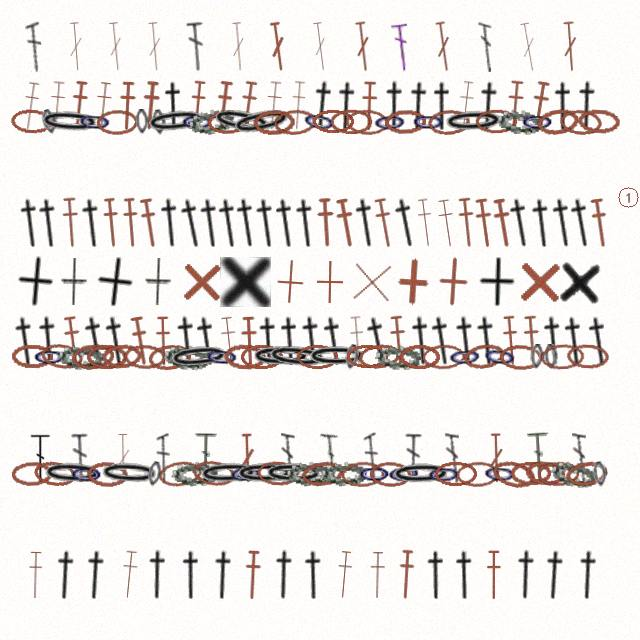chain: (229, 104, 294, 140), (209, 104, 274, 139), (144, 106, 208, 137), (167, 342, 231, 372), (265, 342, 329, 372), (38, 108, 101, 136), (442, 108, 505, 135), (41, 460, 104, 487), (98, 460, 161, 487), (197, 460, 260, 487), (186, 105, 236, 138), (390, 461, 452, 487), (490, 457, 537, 491), (549, 458, 598, 490), (250, 344, 312, 369), (306, 344, 368, 369), (234, 461, 296, 486), (263, 461, 325, 486), (39, 341, 85, 372), (191, 458, 237, 489), (535, 106, 580, 137), (462, 341, 507, 372), (32, 459, 78, 489), (157, 459, 203, 489), (147, 342, 192, 372), (564, 459, 609, 489), (300, 459, 344, 489), (163, 343, 210, 371), (70, 342, 115, 371), (357, 342, 402, 371), (496, 108, 543, 135), (171, 460, 218, 487), (285, 460, 332, 487), (320, 460, 367, 487), (524, 459, 567, 488), (427, 108, 471, 136), (57, 344, 104, 370), (540, 343, 585, 370), (300, 106, 339, 137), (273, 108, 316, 136), (559, 108, 602, 136), (375, 344, 421, 370), (10, 108, 54, 135), (577, 108, 620, 135), (223, 343, 266, 370), (566, 343, 609, 370), (256, 460, 299, 487), (345, 109, 389, 135), (123, 344, 167, 370), (341, 461, 385, 487), (456, 461, 500, 487), (101, 343, 143, 370), (207, 109, 250, 135), (252, 109, 295, 135), (422, 344, 465, 370), (499, 344, 542, 370), (86, 461, 129, 487), (369, 461, 412, 487), (537, 461, 580, 487), (481, 342, 519, 371), (96, 109, 138, 135), (384, 109, 426, 135), (11, 461, 53, 487), (312, 109, 355, 134), (330, 109, 373, 134), (475, 109, 518, 134), (240, 344, 283, 369), (346, 344, 389, 369), (434, 461, 477, 486), (11, 344, 53, 369), (86, 344, 128, 369), (296, 344, 338, 369), (399, 344, 441, 369), (510, 461, 552, 486), (77, 108, 113, 135), (204, 343, 240, 370), (447, 343, 483, 370), (228, 460, 264, 487), (386, 460, 422, 487), (482, 460, 518, 487), (372, 109, 408, 135), (426, 461, 462, 487), (69, 461, 104, 487), (180, 109, 215, 134), (411, 109, 446, 134), (520, 109, 555, 134), (32, 344, 67, 369), (357, 461, 392, 486), (40, 108, 59, 135), (146, 461, 163, 487), (151, 109, 167, 135), (344, 344, 360, 370), (592, 461, 608, 487), (135, 109, 149, 134), (530, 344, 544, 369), (544, 344, 558, 369)
double: (516, 21, 541, 73), (527, 432, 551, 483), (432, 21, 455, 72), (267, 21, 289, 72), (309, 21, 331, 72), (352, 21, 374, 72), (320, 432, 342, 483), (195, 433, 217, 483), (105, 21, 126, 72), (144, 21, 165, 72), (186, 21, 207, 72), (391, 21, 412, 72), (30, 433, 51, 483), (66, 21, 86, 72), (560, 21, 580, 72), (25, 21, 44, 72), (229, 21, 248, 72), (71, 433, 90, 483), (363, 432, 381, 483), (114, 433, 132, 483), (487, 433, 505, 483), (478, 22, 495, 72), (239, 433, 256, 483), (405, 433, 422, 483), (445, 433, 461, 483), (572, 433, 588, 483), (156, 433, 171, 483), (281, 433, 295, 483)
half_double: (174, 196, 210, 250), (360, 314, 396, 368), (388, 196, 424, 249), (305, 79, 340, 132), (503, 196, 538, 249), (564, 196, 599, 249), (78, 314, 113, 367), (230, 196, 264, 249), (349, 196, 383, 249), (546, 196, 580, 249), (99, 314, 133, 367), (425, 314, 459, 367), (212, 197, 246, 249), (269, 197, 303, 249), (190, 315, 224, 367), (317, 315, 351, 367), (582, 315, 616, 367), (330, 80, 363, 132), (402, 80, 435, 132), (472, 80, 505, 132), (14, 197, 47, 249), (194, 197, 227, 249), (250, 197, 283, 249), (9, 315, 42, 367), (558, 315, 591, 367), (49, 549, 82, 601), (79, 549, 112, 601), (538, 549, 571, 601), (33, 197, 65, 249), (76, 197, 108, 249), (290, 197, 322, 249), (526, 197, 558, 249), (207, 549, 239, 601), (572, 549, 604, 601), (571, 80, 603, 131), (171, 315, 203, 366), (296, 315, 328, 366), (450, 315, 482, 366), (471, 315, 503, 366), (268, 549, 300, 600), (510, 549, 542, 600), (379, 80, 410, 131), (155, 197, 186, 248), (33, 315, 64, 366), (406, 315, 437, 366), (538, 315, 569, 366), (142, 549, 173, 600), (427, 81, 457, 131), (548, 81, 578, 131), (275, 316, 305, 366), (176, 550, 206, 600), (421, 550, 451, 600), (370, 197, 398, 249), (159, 81, 188, 131), (254, 316, 283, 366), (299, 550, 328, 600), (450, 550, 479, 600), (332, 197, 359, 249), (489, 197, 516, 249), (235, 80, 261, 132), (527, 80, 553, 132), (136, 197, 162, 249), (434, 197, 460, 249), (127, 315, 153, 367), (18, 80, 43, 132), (472, 197, 497, 249), (587, 197, 612, 249), (60, 315, 85, 367), (211, 80, 236, 131), (413, 197, 438, 248), (454, 197, 479, 248), (67, 80, 91, 131), (91, 80, 115, 131), (454, 80, 478, 131), (503, 80, 527, 131), (217, 315, 241, 366), (386, 315, 410, 366), (117, 549, 141, 600), (139, 80, 162, 131), (186, 80, 209, 131), (262, 80, 285, 131), (59, 197, 82, 248), (100, 197, 123, 248), (499, 315, 522, 366), (520, 315, 543, 366), (333, 549, 356, 600), (46, 80, 68, 131), (287, 80, 309, 131), (120, 197, 142, 248), (346, 315, 368, 366), (238, 316, 260, 366), (315, 197, 336, 248), (396, 549, 417, 600), (117, 81, 138, 131), (242, 550, 263, 600), (359, 81, 379, 131), (153, 316, 173, 366), (25, 550, 45, 600), (367, 550, 387, 600), (484, 550, 503, 600)
noise: (616, 185, 640, 210)
single: (263, 255, 316, 308), (345, 255, 398, 308), (386, 255, 439, 308), (427, 255, 480, 308), (176, 256, 227, 307), (514, 256, 565, 307), (556, 255, 605, 308), (220, 257, 271, 307), (305, 257, 355, 307), (93, 255, 136, 309), (14, 255, 56, 308), (477, 257, 516, 307), (61, 257, 88, 307), (145, 257, 172, 307)
